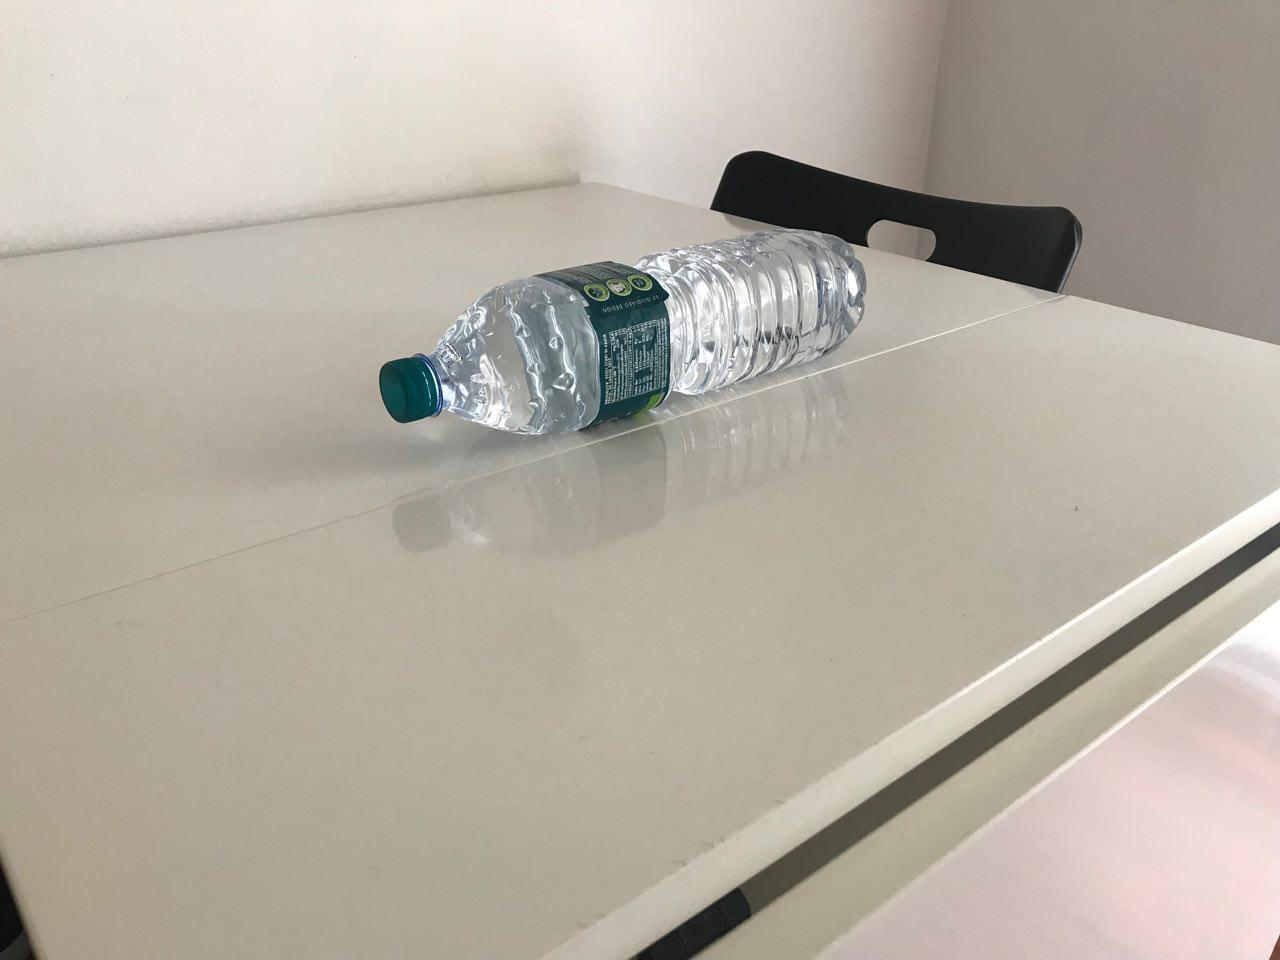san_bernardo: (377, 227, 869, 438)
